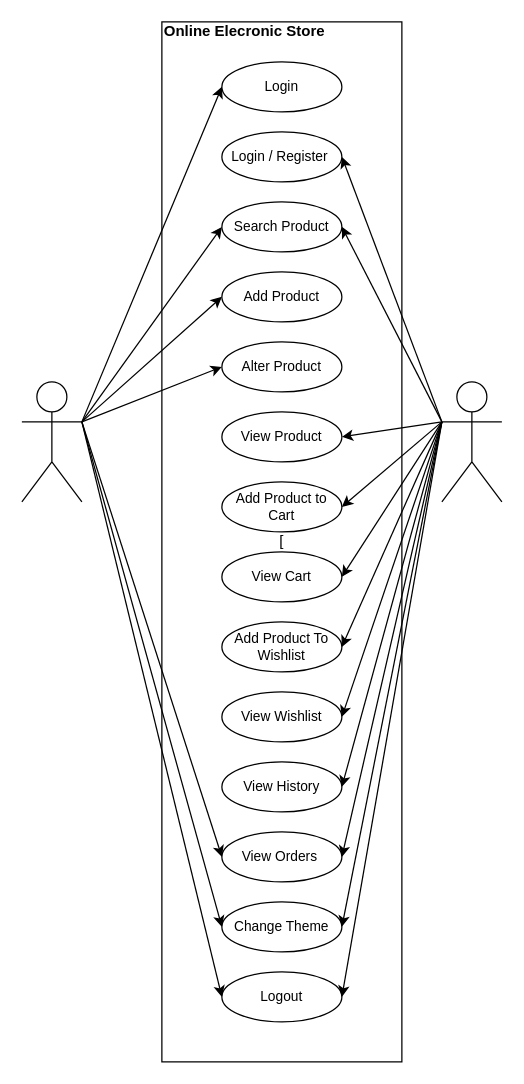
This 524x1084 diagram has some shape labels left out. Each missing label, with the centre of its shape:
"Admin" belongs at (51,441).
"User" belongs at (471,441).
